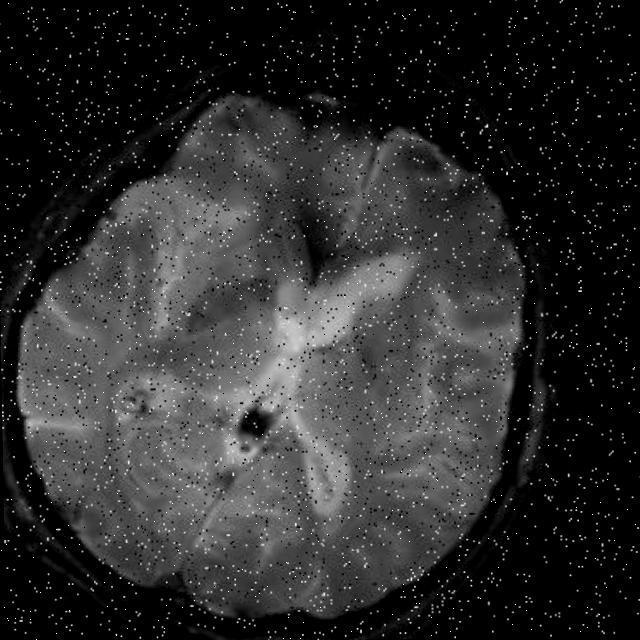LMCI: (247, 162, 395, 302)
